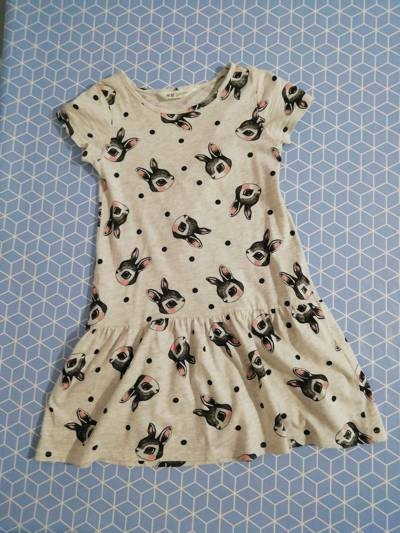Dress: (17, 49, 396, 476)
